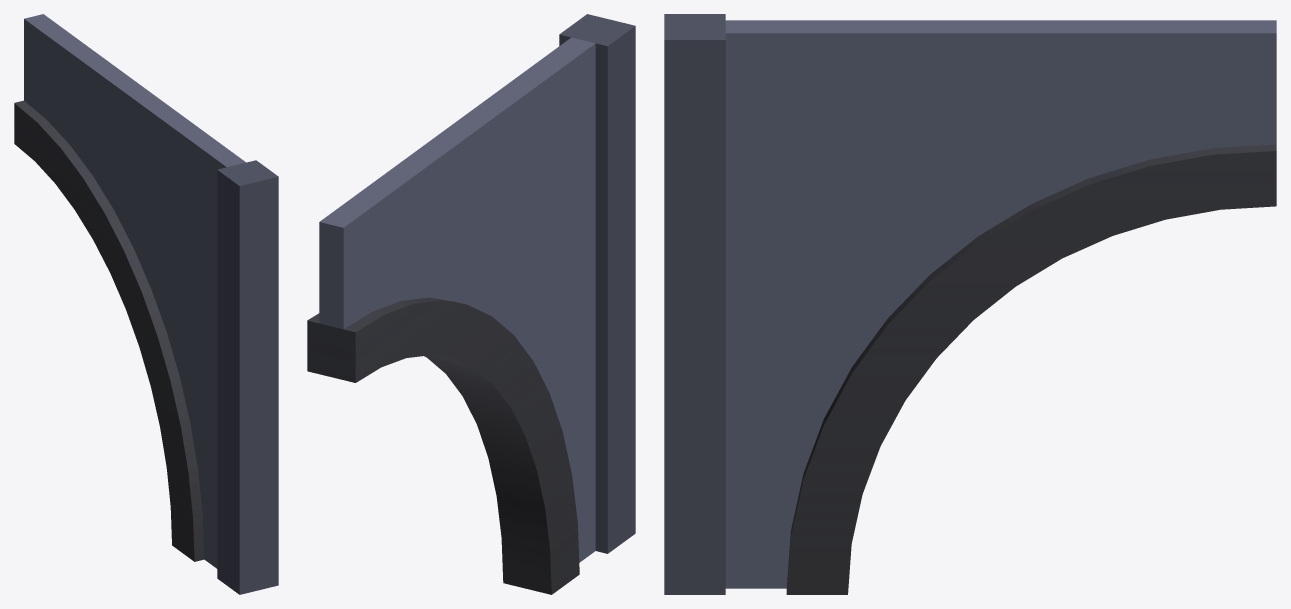
The model's file is wall-wood-arch-top.glb.
The picture shows the model from 3 angles, left to right: view 1: azimuth 30°, elevation 25°; view 2: azimuth 150°, elevation 25°; view 3: azimuth 270°, elevation 25°; orthographic projection. The views are drawn at different scales.
Visible parts, largest first — view 1: wall-wood-arch-top; view 2: wall-wood-arch-top; view 3: wall-wood-arch-top.
Boxes of the visible parts, bbox=[...] form: wall-wood-arch-top: bbox=[14, 14, 278, 594]; wall-wood-arch-top: bbox=[307, 14, 635, 594]; wall-wood-arch-top: bbox=[664, 14, 1276, 594].
Size of the model in its own units: 0.1 by 1 by 1.
Materials: 1 (1 with a texture image).
